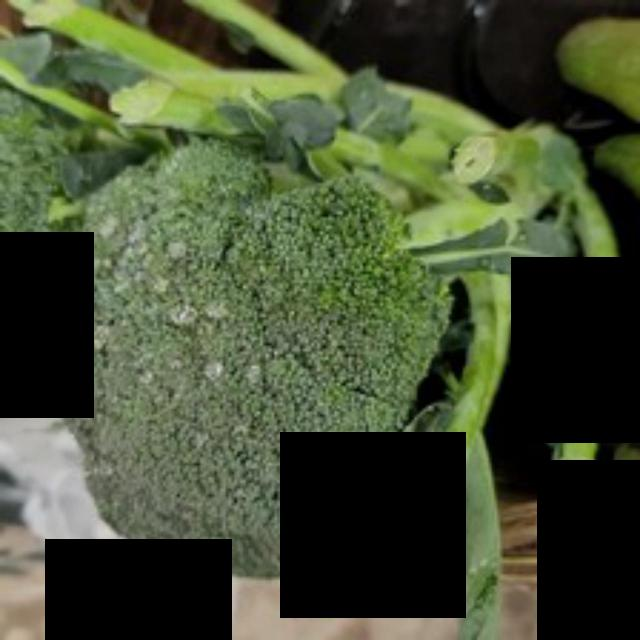broccoli: (33, 126, 472, 594)
